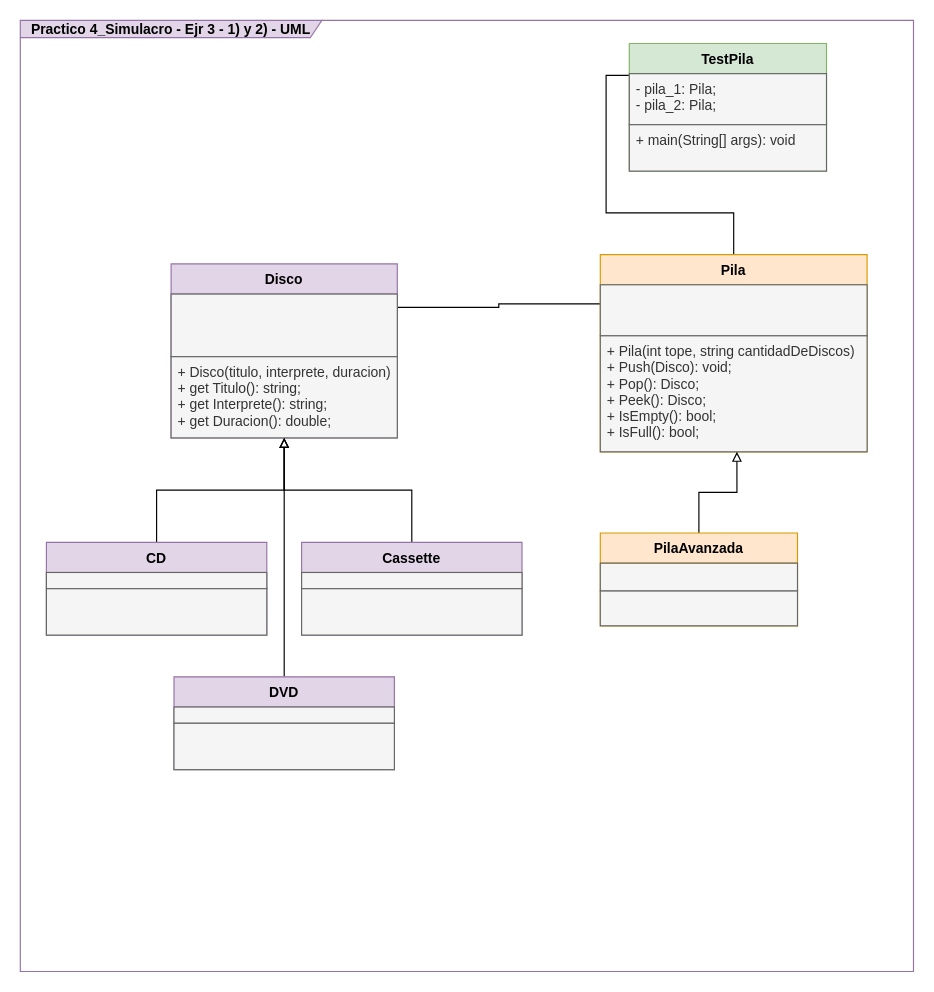
The diagram is 934 pixels wide and 992 high, and some of its shapes have lost their labels. The centre of each missing label's shape, as x and y in pixels:
# titulo: string; # interprete: string; # duracion: double;: (x=283, y=325)
+ Search(CD.titulo): bool;: (x=698, y=608)
- tope: int = -1; - listaDeDiscos: Disco[ ];: (x=733, y=310)
